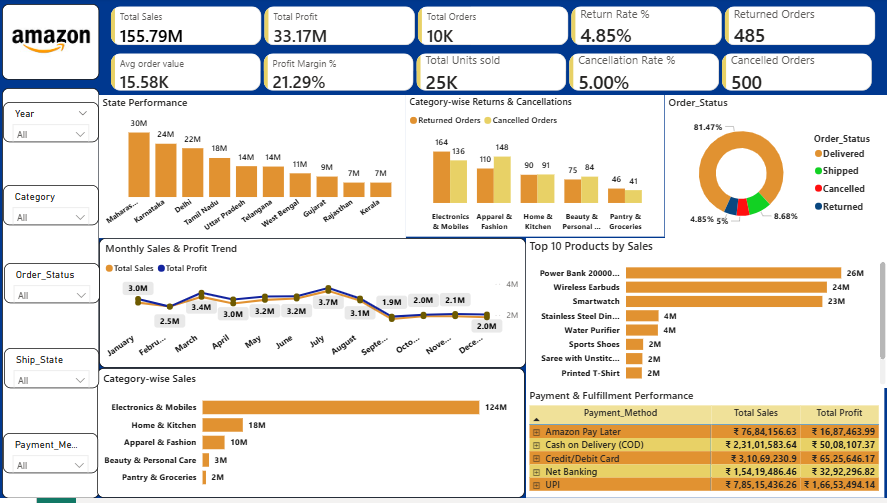

The dashboard page shown, as its layout file describes it:
{"tool":"powerbi","page":{"name":"Page 1","canvas":[1280,720],"ordinal":0},"visuals":[{"type":"shape","box":[3,8.9,140.3,109.3],"z":0},{"type":"shape","box":[3,129.9,140.3,590.5],"z":1000},{"type":"cardVisual","fields":{"Data":["Amazon Sales Data India.Total Sales","Amazon Sales Data India.Total Profit","Amazon Sales Data India.Total Orders","Amazon Sales Data India.Return Rate %","Amazon Sales Data India.Returned Orders"]},"box":[142.6,0,1137.6,96.5],"z":2000},{"type":"lineChart","title":"Monthly Sales & Profit Trend","fields":{"Category":["DateTable.Date.Variation.Date Hierarchy.Month"],"Y":["Amazon Sales Data India.Total Sales"],"Y2":["Amazon Sales Data India.Total Profit"]},"box":[142.6,345.6,614.9,187.2],"z":3000},{"type":"barChart","title":"Category-wise Sales","fields":{"Category":["Amazon Sales Data India.Category"],"Y":["Amazon Sales Data India.Total Sales"]},"box":[139.7,532.8,616.3,187.2],"z":4000},{"type":"slicer","fields":{"Values":["DateTable.Date.Variation.Date Hierarchy.Year"]},"box":[4.3,149.8,138.2,57.6],"z":5000},{"type":"cardVisual","fields":{"Data":["Amazon Sales Data India.AOV","Amazon Sales Data India.Profit Margin %","Amazon Sales Data India.Total Units","Amazon Sales Data India.Cancellation Rate %","Amazon Sales Data India.Cancelled Orders"]},"box":[143.2,67.9,1130.9,94.5],"z":6000},{"type":"barChart","title":"Top 10 Products by Sales","fields":{"Category":["Amazon Sales Data India.Product"],"Y":["Divide(Sum(Amazon Sales Data India.Total_Sales_INR), ScopedEval(Sum(Amazon Sales Data India.Total_Sales_INR), []))"]},"box":[757.4,345.6,522.7,216],"z":7000},{"type":"slicer","fields":{"Values":["Amazon Sales Data India.Category"]},"box":[4.3,269.3,138.2,57.6],"z":8000},{"type":"slicer","fields":{"Values":["Amazon Sales Data India.Order_Status"]},"box":[5.8,381.6,138.2,57.6],"z":9000},{"type":"slicer","fields":{"Values":["Amazon Sales Data India.Ship_State"]},"box":[5.8,504,136.8,57.6],"z":10000},{"type":"donutChart","title":"Order_Status","fields":{"Category":["Amazon Sales Data India.Order_Status"],"Y":["CountNonNull(Amazon Sales Data India.Order_ID)"]},"box":[957.6,139.7,322.6,205.9],"z":11000},{"type":"clusteredColumnChart","title":"State Performance","fields":{"Category":["Amazon Sales Data India.Ship_State"],"Y":["Sum(Amazon Sales Data India.Total_Sales_INR)"]},"box":[142.6,139.7,442.1,205.9],"z":12000},{"type":"image","box":[11.8,16.2,124,93],"z":13000},{"type":"slicer","fields":{"Values":["Amazon Sales Data India.Payment_Method"]},"box":[4.3,626.4,136.8,57.6],"z":14000},{"type":"clusteredColumnChart","title":"Category-wise Returns & Cancellations","fields":{"Category":["Amazon Sales Data India.Category"],"Y":["Amazon Sales Data India.Returned Orders","Amazon Sales Data India.Cancelled Orders"]},"box":[584.6,139.7,371.5,204.5],"z":15000},{"type":"pivotTable","title":"Payment & Fulfillment Performance","fields":{"Rows":["Amazon Sales Data India.Payment_Method","Amazon Sales Data India.Fulfillment"],"Values":["Amazon Sales Data India.Total Sales","Amazon Sales Data India.Total Profit"]},"box":[757.4,561.6,515.5,158.4],"z":16000}]}

Visuals, with their boxes in screenshot pixels (x1, y1, x2, y2), scaled from the page's 1280x720 canvas onto the 887x503 screenshot:
shape: {"x1": 2, "y1": 6, "x2": 99, "y2": 83}
shape: {"x1": 2, "y1": 91, "x2": 99, "y2": 502}
cardVisual - Amazon Sales Data India.Total Sales x Amazon Sales Data India.Total Profit: {"x1": 99, "y1": 0, "x2": 886, "y2": 67}
"Monthly Sales & Profit Trend" lineChart: {"x1": 99, "y1": 241, "x2": 525, "y2": 372}
"Category-wise Sales" barChart: {"x1": 97, "y1": 372, "x2": 524, "y2": 502}
slicer - DateTable.Date.Variation.Date Hierarchy.Year: {"x1": 3, "y1": 105, "x2": 99, "y2": 145}
cardVisual - Amazon Sales Data India.AOV x Amazon Sales Data India.Profit Margin %: {"x1": 99, "y1": 47, "x2": 883, "y2": 113}
"Top 10 Products by Sales" barChart: {"x1": 525, "y1": 241, "x2": 886, "y2": 392}
slicer - Amazon Sales Data India.Category: {"x1": 3, "y1": 188, "x2": 99, "y2": 228}
slicer - Amazon Sales Data India.Order_Status: {"x1": 4, "y1": 267, "x2": 100, "y2": 307}
slicer - Amazon Sales Data India.Ship_State: {"x1": 4, "y1": 352, "x2": 99, "y2": 392}
"Order_Status" donutChart: {"x1": 664, "y1": 98, "x2": 886, "y2": 241}
"State Performance" clusteredColumnChart: {"x1": 99, "y1": 98, "x2": 405, "y2": 241}
image: {"x1": 8, "y1": 11, "x2": 94, "y2": 76}
slicer - Amazon Sales Data India.Payment_Method: {"x1": 3, "y1": 438, "x2": 98, "y2": 478}
"Category-wise Returns & Cancellations" clusteredColumnChart: {"x1": 405, "y1": 98, "x2": 663, "y2": 240}
"Payment & Fulfillment Performance" pivotTable: {"x1": 525, "y1": 392, "x2": 882, "y2": 502}
